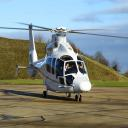helicopter: (1, 20, 128, 107)
